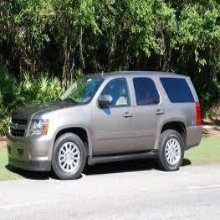no damage: (7, 70, 204, 179)
